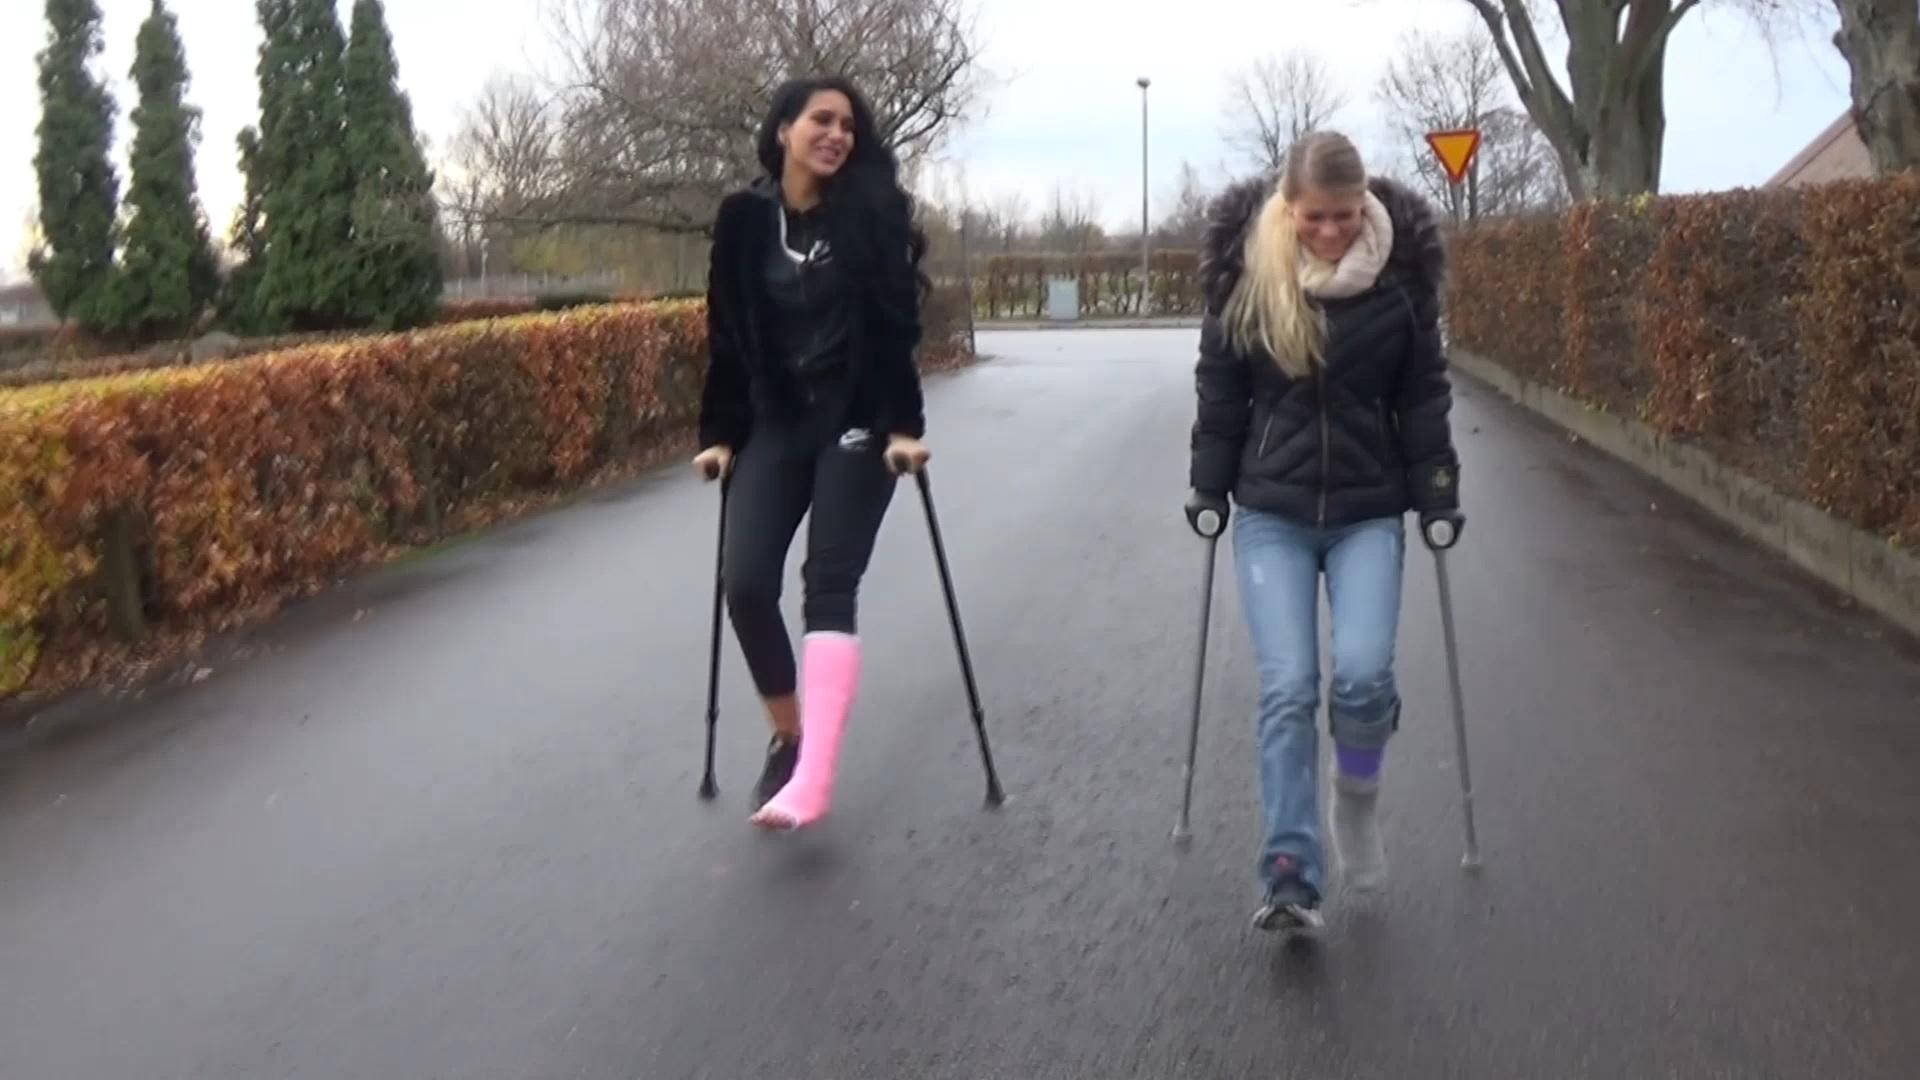crutches: (1170, 131, 1486, 935), (690, 74, 1006, 833)
